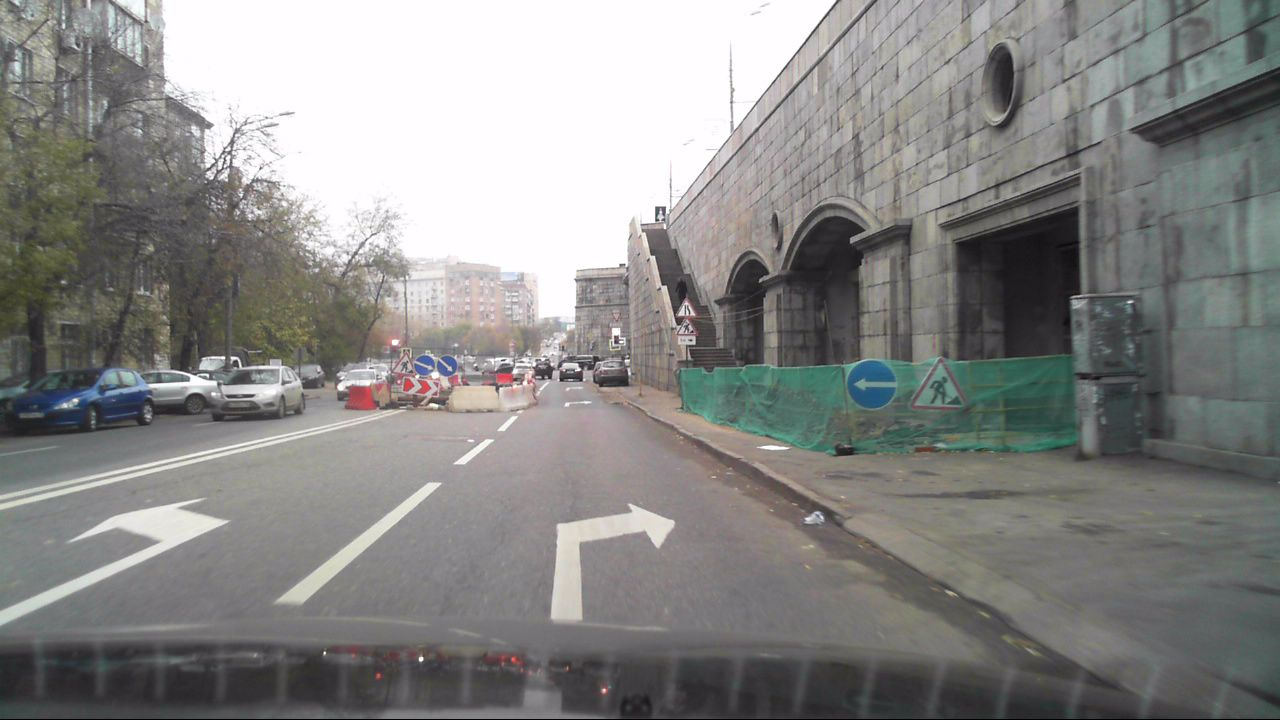Turn Left: (847, 359, 897, 409)
